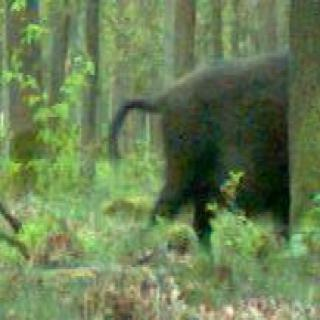Pig: (104, 39, 320, 238)
